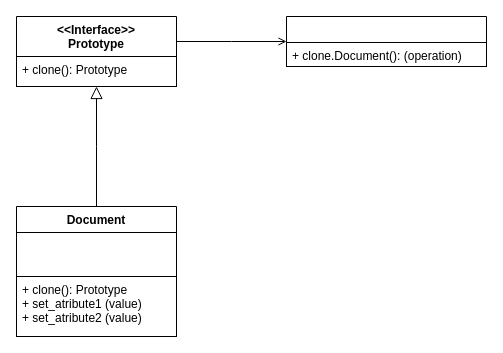
Some shapes in this 503 by 353 pixel diagram are drawn without their labels. The shapes that lost their labels are listed below. From the top down, each one's box as (x1, y1, x2, y2) in pixels, then its label:
(286, 16, 486, 66): Client
(16, 232, 176, 276): - atribute1: type - atribute2: type
